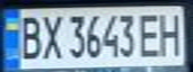3: (63, 11, 87, 60), (118, 11, 139, 58)
4: (100, 11, 121, 58)
6: (84, 11, 106, 60)
B: (15, 11, 45, 61)
E: (136, 10, 163, 58)
H: (154, 9, 187, 56)
X: (39, 11, 66, 61)
